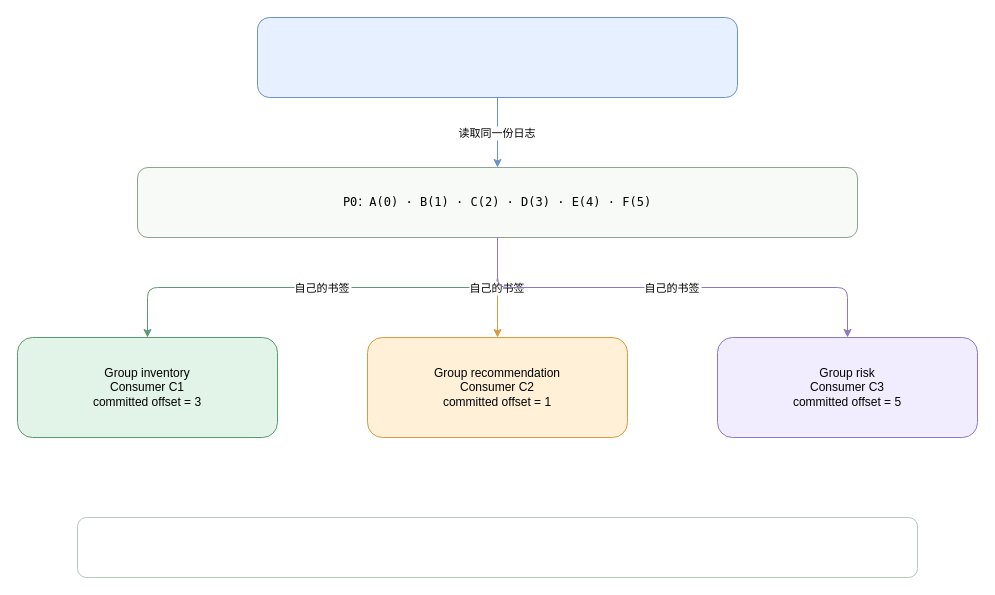
The diagram is 995 pixels wide and 595 high, and some of its shapes have lost their labels. The box of each missing label's shape, as (x1, y1, x2, y2) in pixels:
同一个 Topic / Partition Log: (256, 16, 738, 98)
消息没有按 Group 复制；Group 之间独立读取，Group 内部才竞争 Partition: (76, 516, 918, 578)
